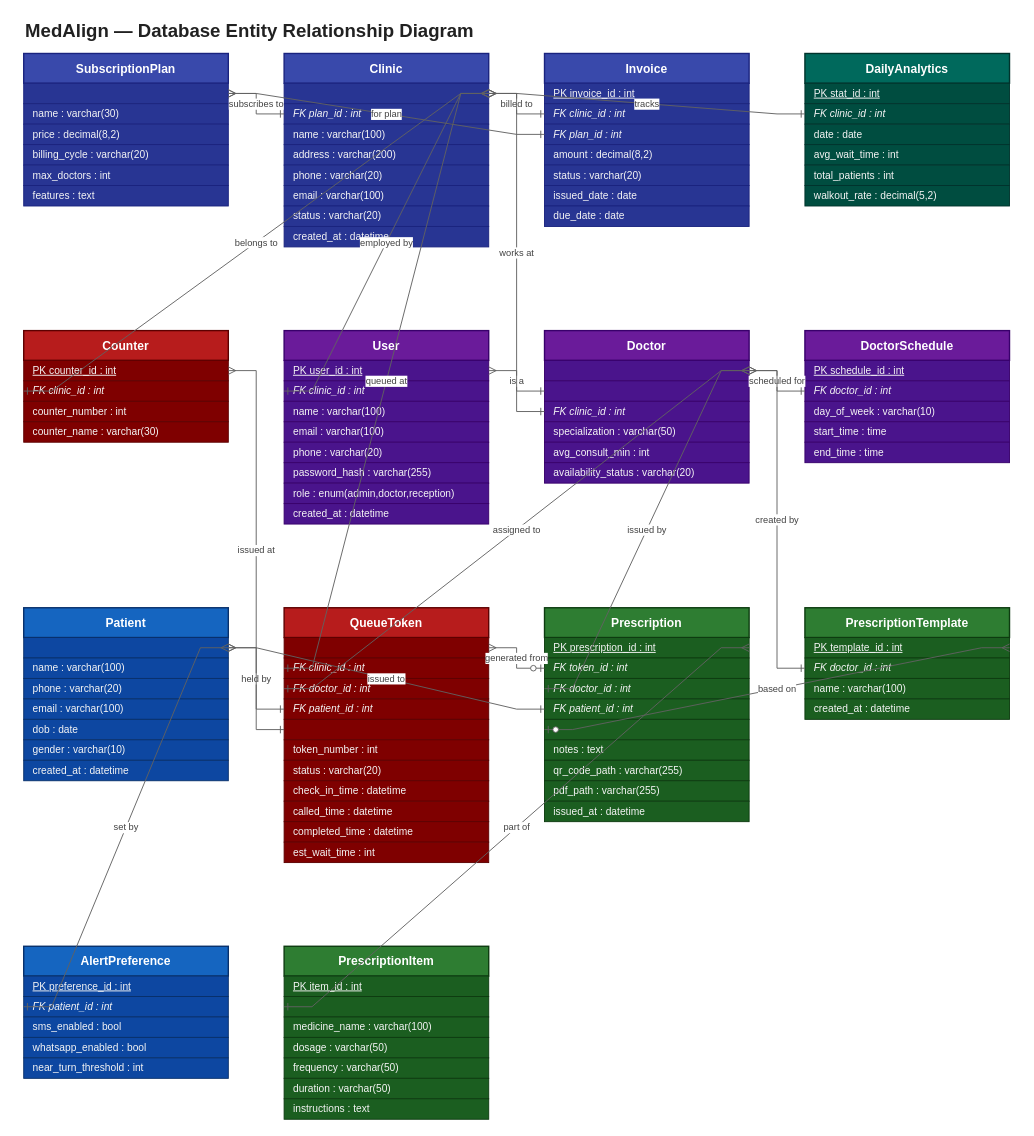
Some shapes in this 1034 by 1136 pixel diagram are drawn without their labels. Each missing label, with the centre of its shape:
FK counter_id : int: point (386, 729)
FK prescription_id : int: point (386, 1006)
FK template_id : int: point (646, 729)
FK user_id : int: point (646, 390)
PK clinic_id : int: point (386, 93)
PK doctor_id : int: point (646, 370)
PK patient_id : int: point (125, 647)
PK plan_id : int: point (125, 93)
PK token_id : int: point (386, 647)
